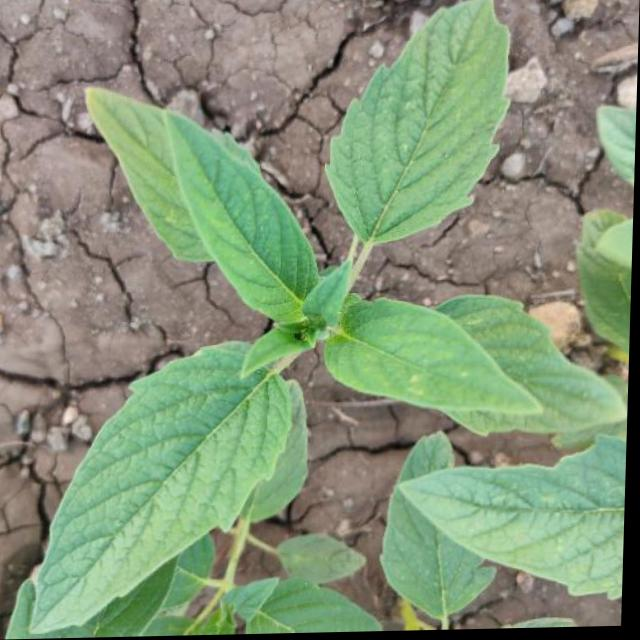crop: (0, 0, 640, 636)
